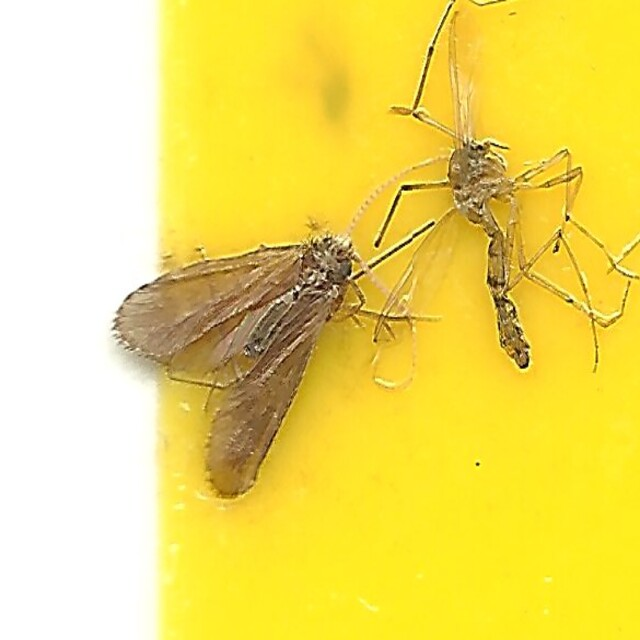Nematocera: (444, 139, 531, 373)
Trichoptera: (109, 234, 356, 501)
